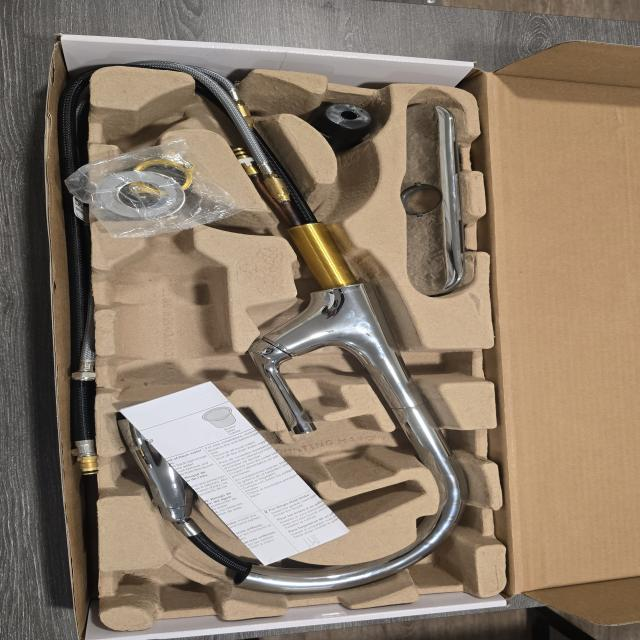1o: (120, 67, 468, 593)
2m: (195, 409, 425, 541)
3m: (104, 226, 230, 408)
4: (398, 103, 467, 294)
5: (308, 101, 374, 154)
6: (65, 139, 243, 240)
7m: (92, 93, 187, 165)
8: (117, 380, 352, 566)
